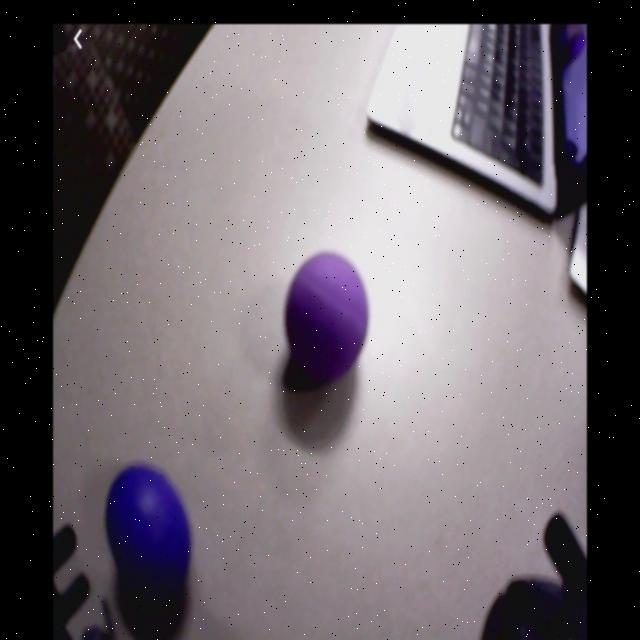ball: (106, 464, 190, 611), (285, 251, 370, 382)
